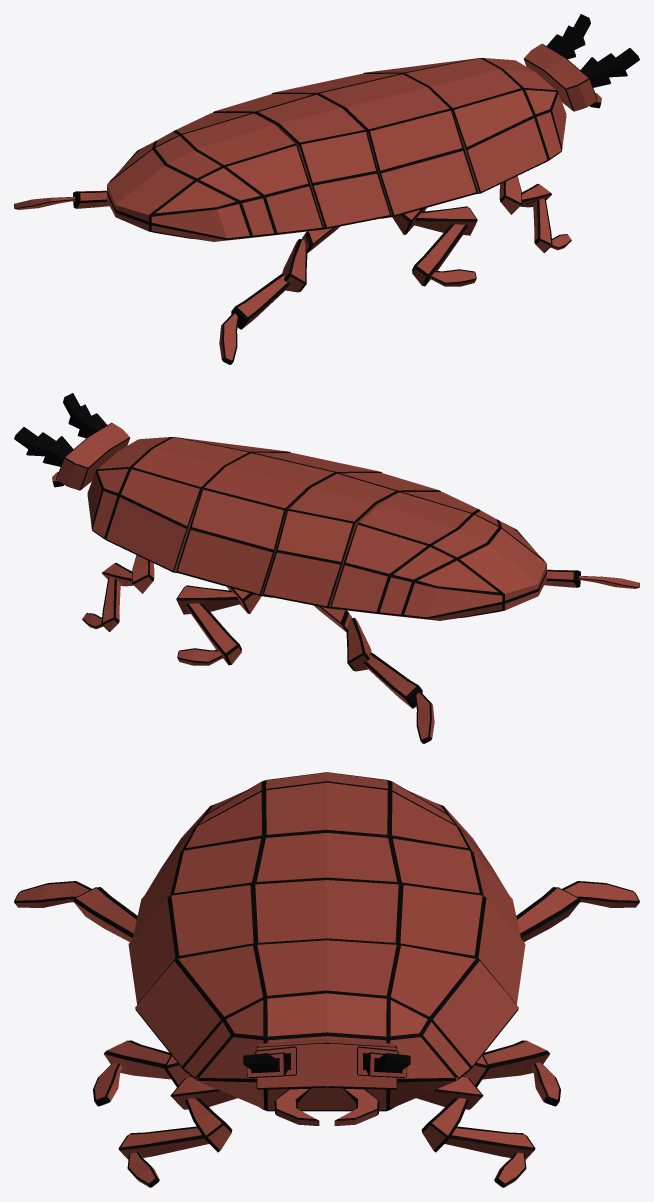
File: Жук таракан (без анимации).fbx
3 views of the same model, one above another, from view 1: azimuth 30°, elevation 25°; view 2: azimuth 150°, elevation 25°; view 3: azimuth 270°, elevation 25° (orthographic). The views are drawn at different scales.
Visible parts, largest first — view 1: Body, Head, Leg.006, Leg.010, Leg.005, Leg.009, Leg.002, Leg.011, Leg.007, Leg, Leg.021; view 2: Body, Head, Leg.018, Leg.021, Leg.017, Leg.020, Leg.014, Leg.022, Leg.019, Leg.012, Leg.010; view 3: Body, Head, Leg.010, Leg.021, Leg.002, Leg.014, Leg.006, Leg.018, Leg.011, Leg.022, Leg.001, Leg.013 (+6 smaller).
Part boxes in pixels (bbox=[...]): Body: bbox=[107, 58, 566, 241]; Head: bbox=[524, 14, 639, 111]; Leg.006: bbox=[412, 224, 467, 286]; Leg.010: bbox=[231, 274, 290, 329]; Leg.005: bbox=[413, 206, 477, 235]; Leg.009: bbox=[282, 239, 307, 292]; Leg.002: bbox=[533, 198, 552, 252]; Leg.011: bbox=[219, 313, 238, 364]; Leg.007: bbox=[430, 269, 476, 286]; Leg: bbox=[499, 176, 521, 214]; Leg.021: bbox=[73, 190, 109, 208]; Body: bbox=[87, 437, 546, 620]; Head: bbox=[14, 393, 129, 490]; Leg.018: bbox=[186, 603, 241, 665]; Leg.021: bbox=[363, 653, 422, 708]; Leg.017: bbox=[176, 585, 240, 614]; Leg.020: bbox=[346, 618, 371, 671]; Leg.014: bbox=[101, 577, 120, 631]; Leg.022: bbox=[415, 692, 434, 743]; Leg.019: bbox=[177, 648, 223, 665]; Leg.012: bbox=[132, 555, 154, 593]; Leg.010: bbox=[544, 569, 580, 587]; Body: bbox=[128, 772, 525, 1111]; Head: bbox=[243, 1039, 410, 1125]; Leg.010: bbox=[73, 887, 137, 941]; Leg.021: bbox=[516, 887, 580, 941]; Leg.002: bbox=[118, 1126, 209, 1159]; Leg.014: bbox=[444, 1126, 535, 1159]; Leg.006: bbox=[104, 1040, 171, 1079]; Leg.018: bbox=[482, 1040, 549, 1079]; Leg.011: bbox=[14, 881, 91, 907]; Leg.022: bbox=[562, 881, 639, 907]; Leg.001: bbox=[185, 1098, 232, 1152]; Leg.013: bbox=[421, 1098, 468, 1152].
Bounding box in the file's own units: 1354 × 369 × 1014.
